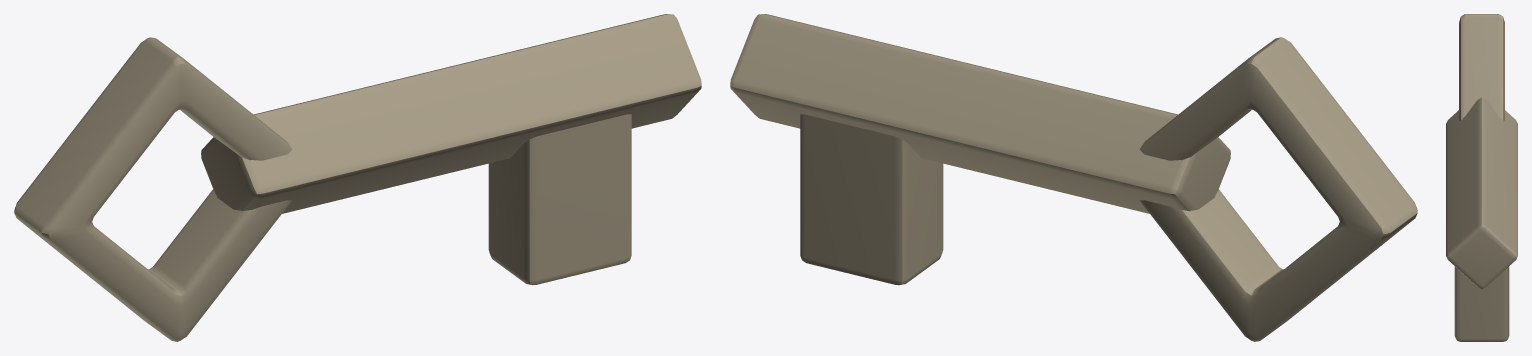
File: KeyProps_001.fbx
3 views of the same model, side by side, from view 1: azimuth 30°, elevation 25°; view 2: azimuth 150°, elevation 25°; view 3: azimuth 270°, elevation 25° (orthographic). The views are drawn at different scales.
Parts seen in each view (by area): view 1: KeyProps_001; view 2: KeyProps_001; view 3: KeyProps_001.
Boxes of the visible parts, x1,y1,x2,y2 form: KeyProps_001: (14,14,701,341); KeyProps_001: (730,14,1417,341); KeyProps_001: (1446,14,1517,341).
Size of the model in its own units: 0.6741 by 0.3087 by 0.104.
